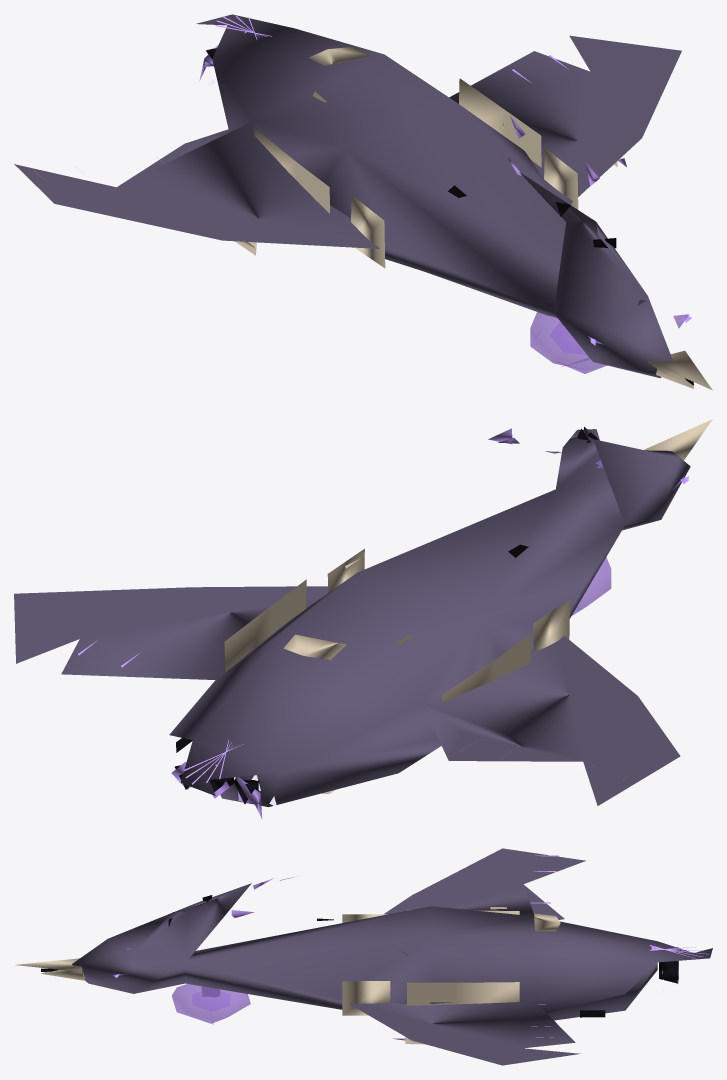
The model's file is choral-piesniarze-trade-9-lod2.glb.
3 views of the same model, one above another, from view 1: azimuth 30°, elevation 25°; view 2: azimuth 150°, elevation 25°; view 3: azimuth 270°, elevation 25° (orthographic). The views are drawn at different scales.
Bounding box in the file's own units: 70.49 × 21.76 × 95.87.
